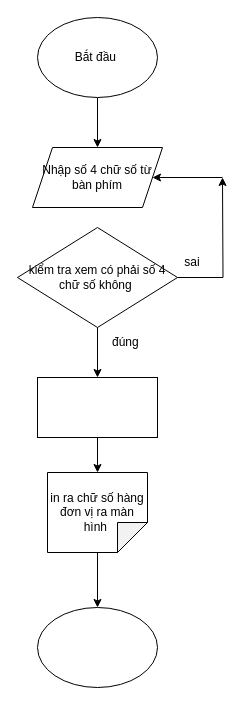
The diagram is 249 pixels wide and 705 high, and some of its shapes have lost their labels. The shapes that lost their labels are listed below. From the top down, each one's centre as x and y in pixels, then its label:
At (x=97, y=407): "Tách chữ số hàng đơn vị".
At (x=97, y=647): "Kết thúc".
